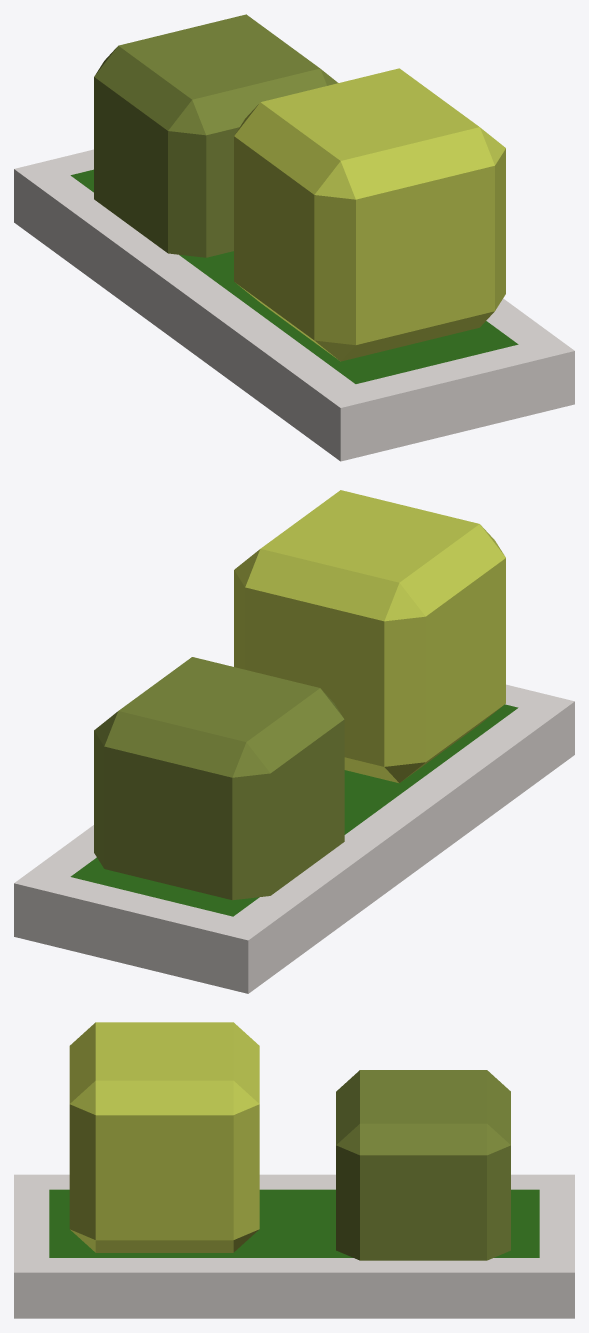
Rendered from bush.FBX.
The picture shows the model from 3 angles, top to bottom: view 1: azimuth 30°, elevation 25°; view 2: azimuth 150°, elevation 25°; view 3: azimuth 270°, elevation 25°; orthographic projection. The views are drawn at different scales.
Visible parts, largest first — view 1: bush; view 2: bush; view 3: bush.
Part boxes in pixels (<box>): bush: <box>14,14,574,461</box>; bush: <box>14,490,574,993</box>; bush: <box>14,1022,574,1318</box>.
Size of the model in its own units: 2.74 by 2.84 by 6.62.
